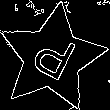P_SW: (24, 27, 80, 89)
